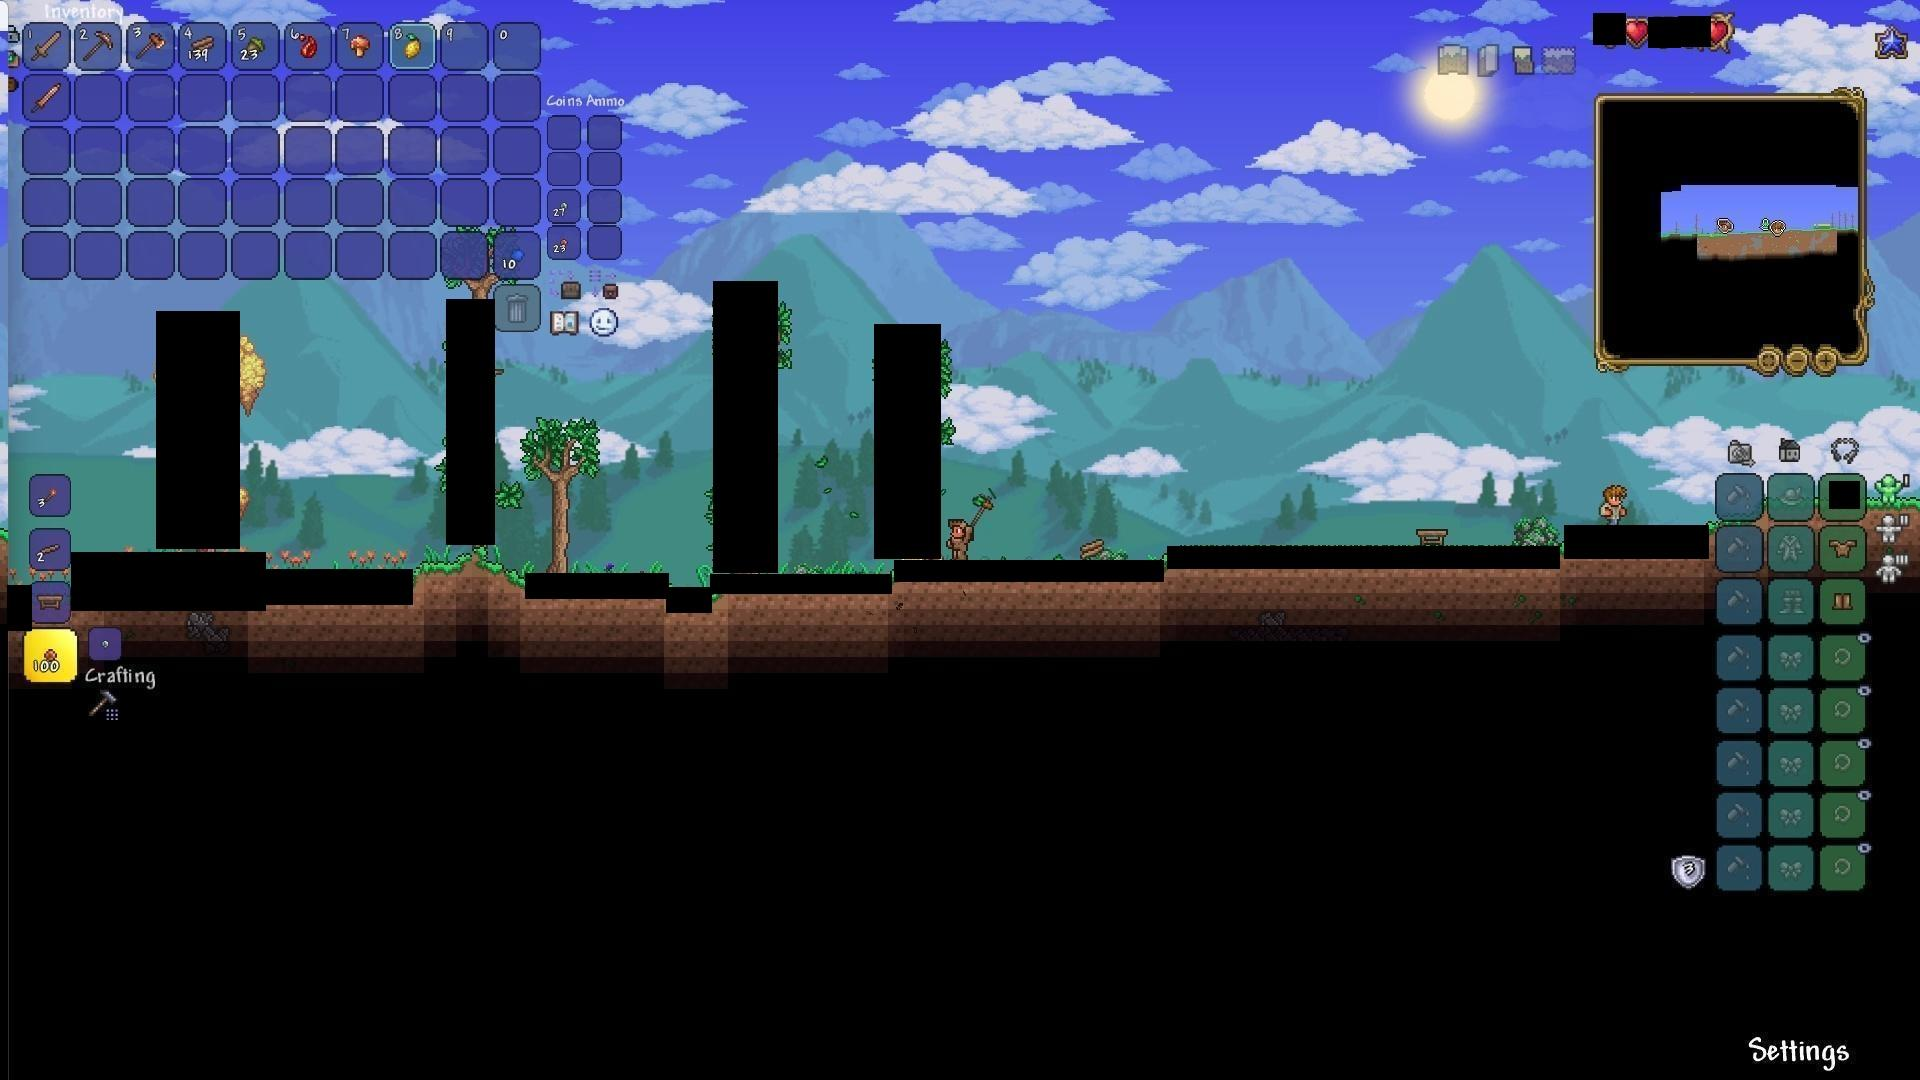breastplate: (1830, 537, 1859, 558)
dirt: (418, 551, 520, 593)
heart: (1702, 17, 1734, 47), (1625, 16, 1652, 46)
legs: (1830, 588, 1855, 617)
tree: (526, 407, 601, 571)
wood: (1076, 537, 1105, 563), (189, 34, 216, 61)
workbench: (1416, 524, 1453, 549), (33, 591, 66, 615)
